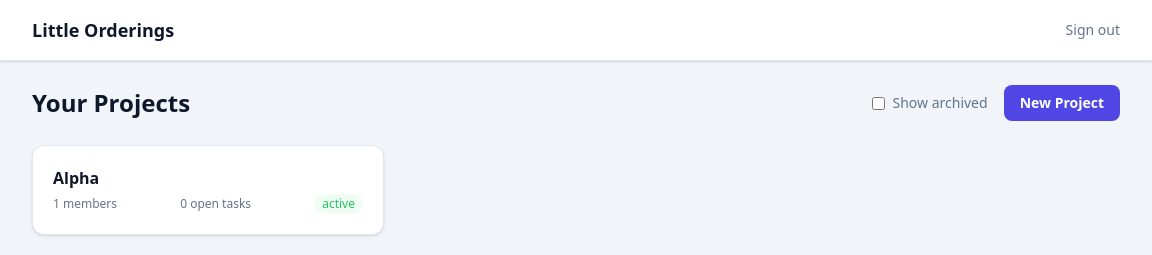
Test case: shows archived projects when "Show archived" is checked
The width and height of the screenshot is (1152, 255).
Expected: the heading "Alpha" is shown, [53,167,99,189]
Step 1. Click the checkbox labelled "Show archived" → [878, 103], box [872,96,884,110]
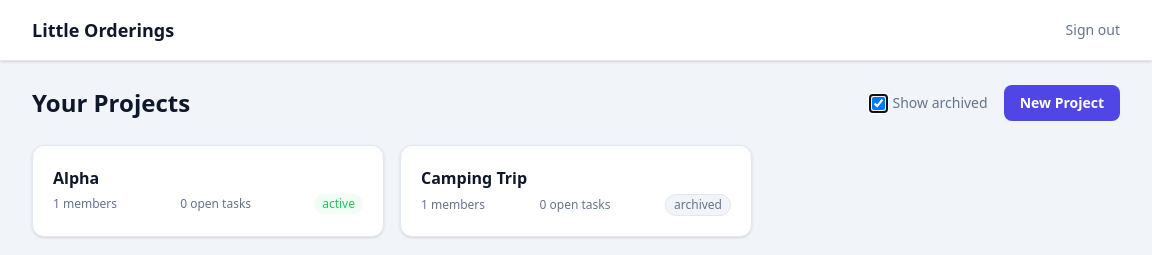
Now the heading "Camping Trip" is shown, box [421,167,527,189]
